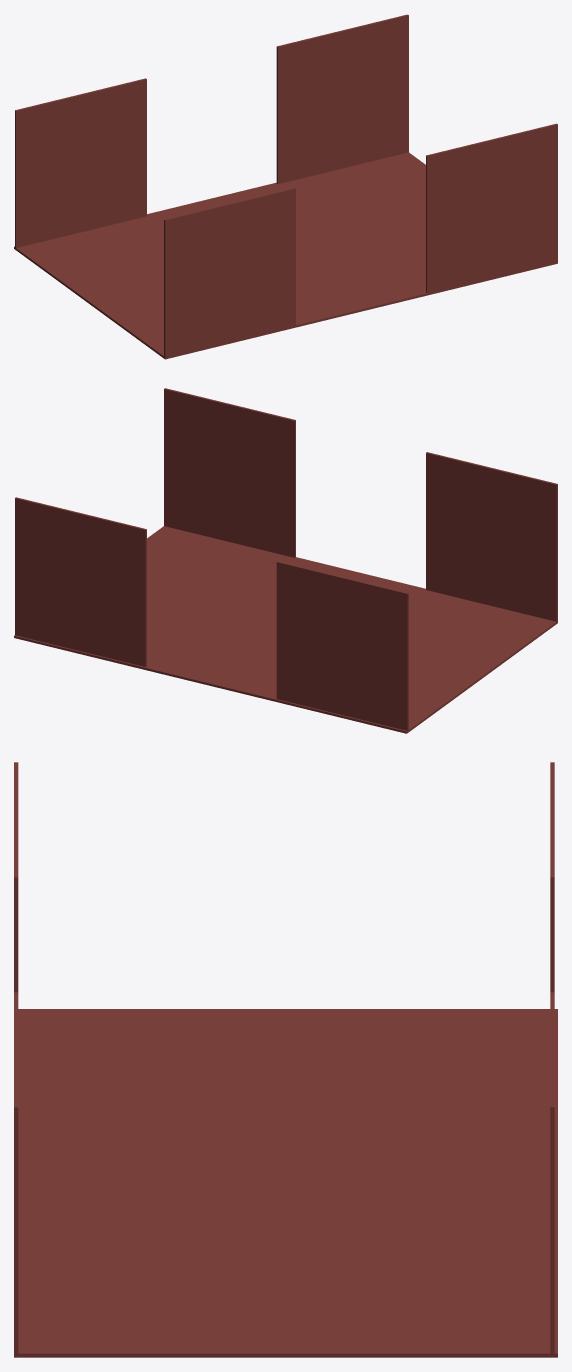
The model's file is 2x3Hell.fbx.
3 renders of one model, top to bottom at view 1: azimuth 30°, elevation 25°; view 2: azimuth 150°, elevation 25°; view 3: azimuth 270°, elevation 25°, orthographic. The views are drawn at different scales.
Visible parts, largest first — view 1: Plane.052; view 2: Plane.052; view 3: Plane.052.
Part boxes in pixels (x1=…): Plane.052: x1=14, y1=14, x2=557, y2=359; Plane.052: x1=14, y1=388, x2=557, y2=733; Plane.052: x1=14, y1=762, x2=557, y2=1357.
Size of the model in its own units: 10800 by 3657 by 7200.
